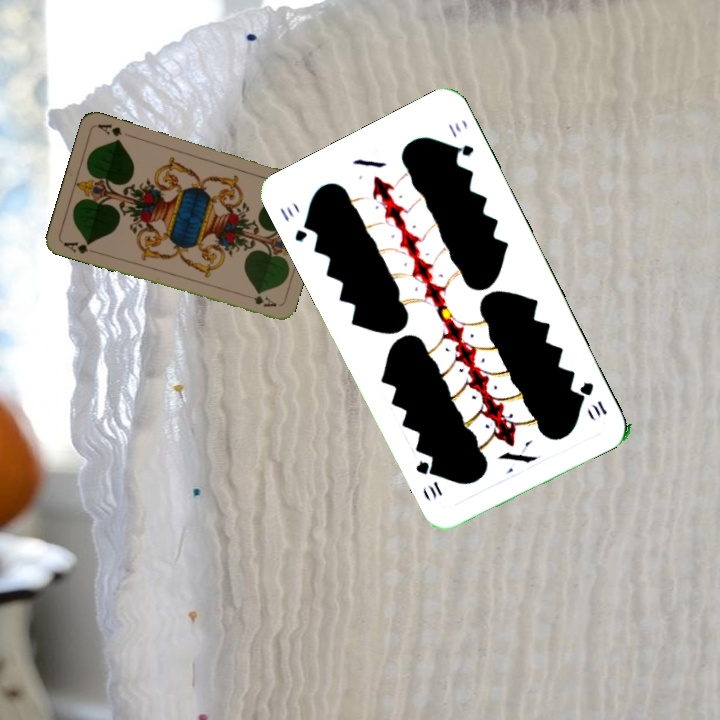G10: (276, 202, 315, 245), (575, 378, 610, 421)
GA: (59, 238, 93, 256)
